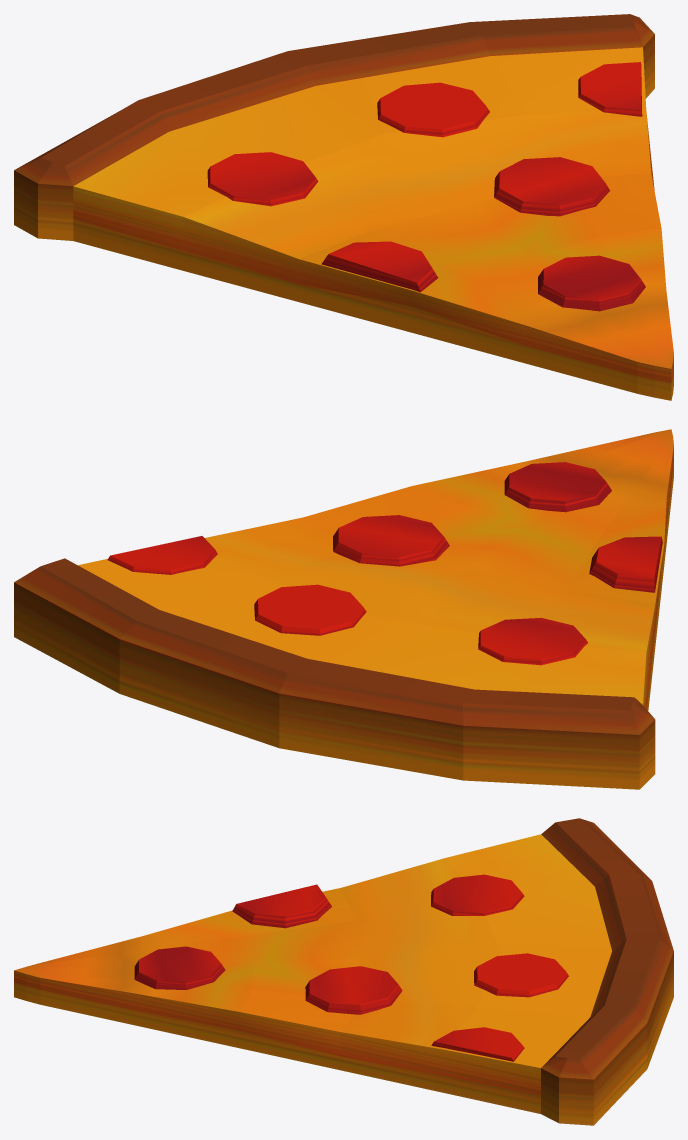
The model's file is pizza.glb.
3 renders of one model, top to bottom at view 1: azimuth 30°, elevation 25°; view 2: azimuth 150°, elevation 25°; view 3: azimuth 270°, elevation 25°, orthographic. The views are drawn at different scales.
Parts seen in each view (by area): view 1: Pizza_Slice; view 2: Pizza_Slice; view 3: Pizza_Slice.
Part boxes in pixels (x1,y1,x2,y2): Pizza_Slice: (14,14,673,400); Pizza_Slice: (14,429,673,789); Pizza_Slice: (14,818,673,1125).
Bounding box in the file's own units: 1.02 × 0.1079 × 1.11.
Materials: 1 (1 with a texture image).
